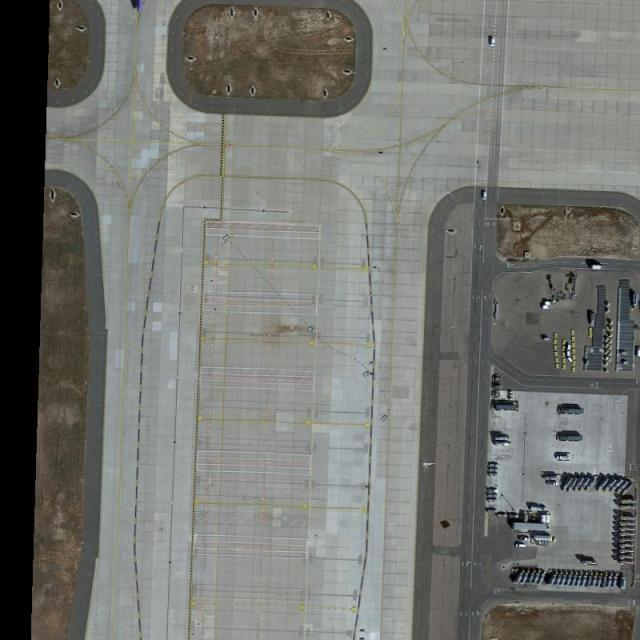vehicle: (515, 543, 527, 548), (490, 38, 496, 47), (592, 266, 605, 270), (482, 192, 487, 201), (636, 347, 640, 358)
